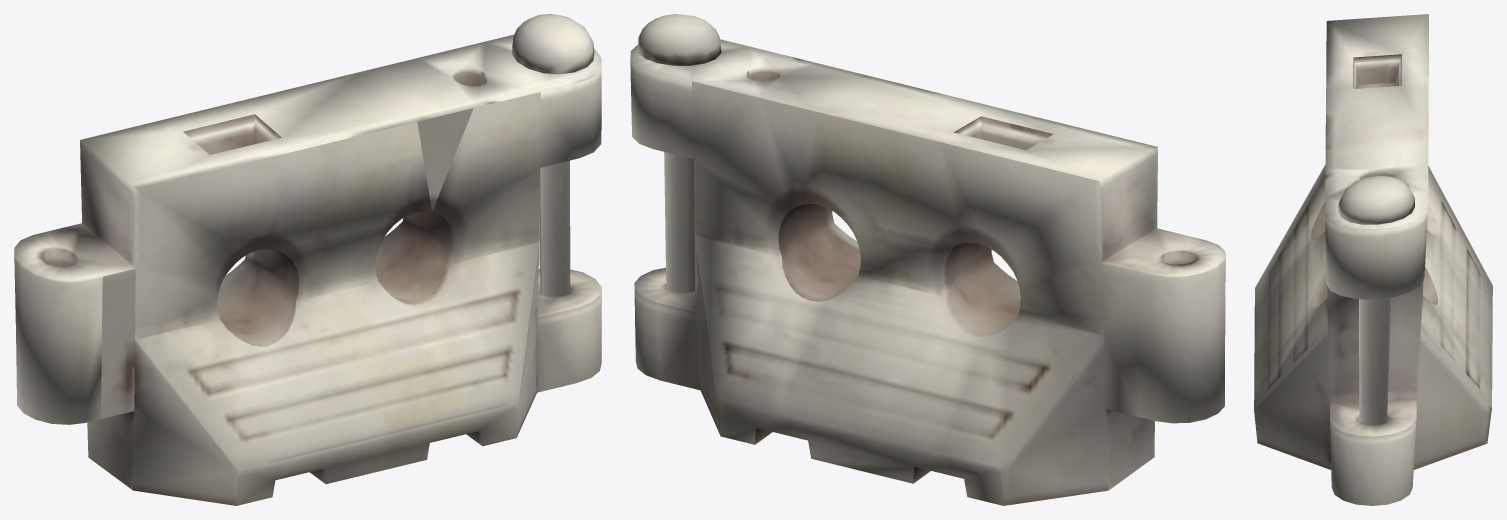
Rendered from nc_prop_barricade_a_01.fbx.
3 renders of one model, left to right at view 1: azimuth 30°, elevation 25°; view 2: azimuth 150°, elevation 25°; view 3: azimuth 270°, elevation 25°, orthographic. The views are drawn at different scales.
Parts seen in each view (by area): view 1: nc_prop_barricade_a_01_LOD0; view 2: nc_prop_barricade_a_01_LOD0; view 3: nc_prop_barricade_a_01_LOD0.
Boxes of the visible parts, x1,y1,x2,y2 form: nc_prop_barricade_a_01_LOD0: (14,14,601,505); nc_prop_barricade_a_01_LOD0: (630,14,1225,505); nc_prop_barricade_a_01_LOD0: (1254,14,1492,505).
Size of what is drawn, in the model's own units: 1.77 by 1.01 by 0.7138.
Materials: 1 (1 with a texture image).
